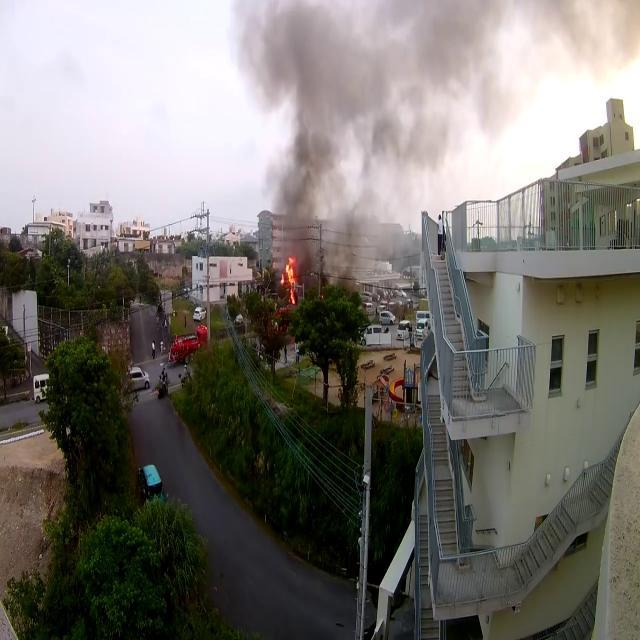Fire: (278, 253, 298, 306)
